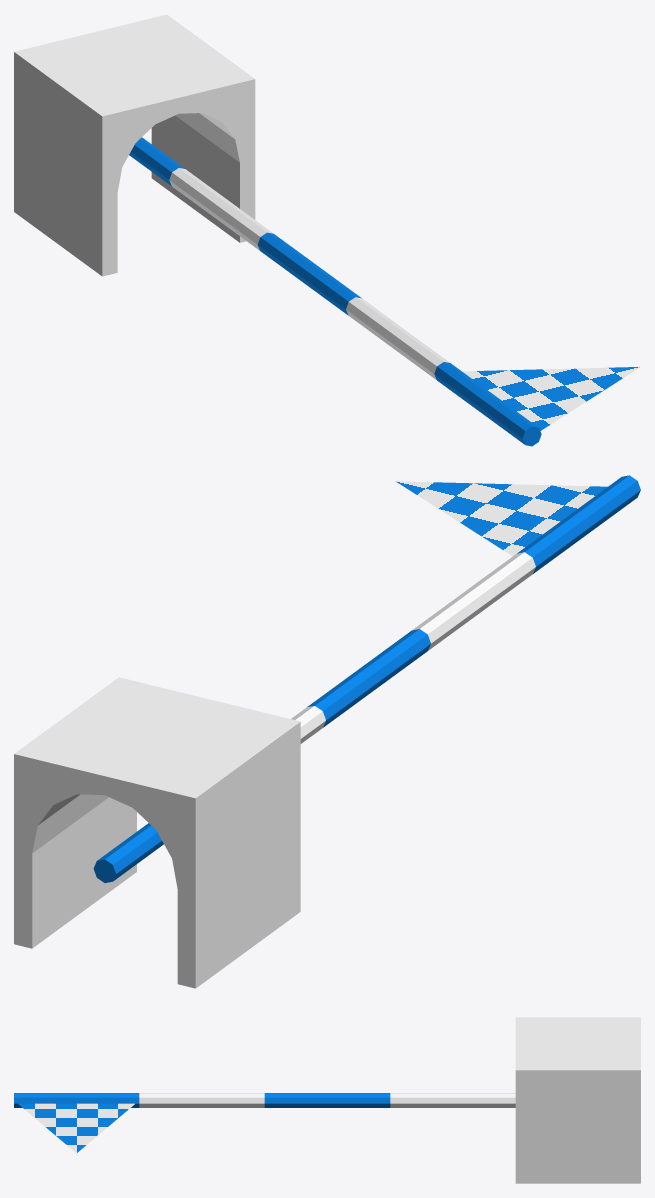
Rendered from flag-hole.glb.
The picture shows the model from 3 angles, top to bottom: view 1: azimuth 30°, elevation 25°; view 2: azimuth 150°, elevation 25°; view 3: azimuth 270°, elevation 25°; orthographic projection. The views are drawn at different scales.
Parts seen in each view (by area): view 1: flag-hole; view 2: flag-hole; view 3: flag-hole.
Part boxes in pixels (box(x1,y1,x2,y2)): flag-hole: box(14, 14, 639, 446); flag-hole: box(14, 475, 640, 988); flag-hole: box(14, 1017, 640, 1183).
Size of the model in its own units: 1.5 by 1 by 5.
Materials: 1 (1 with a texture image).
